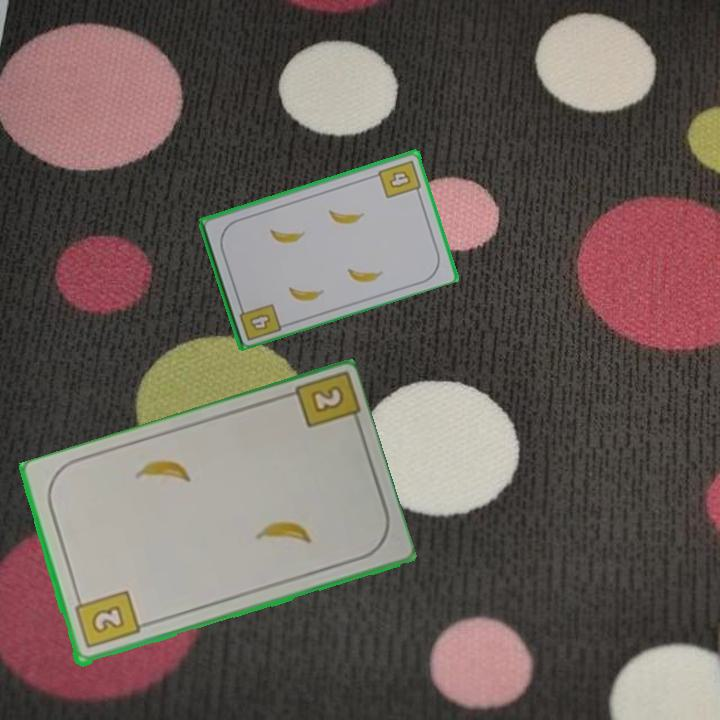2b: (70, 587, 142, 652), (306, 382, 347, 417)
4b: (375, 156, 424, 201), (235, 299, 284, 343)
